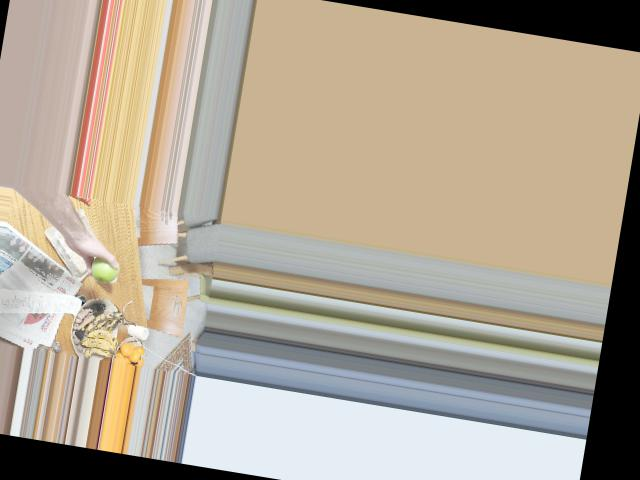apple: (84, 251, 122, 285)
